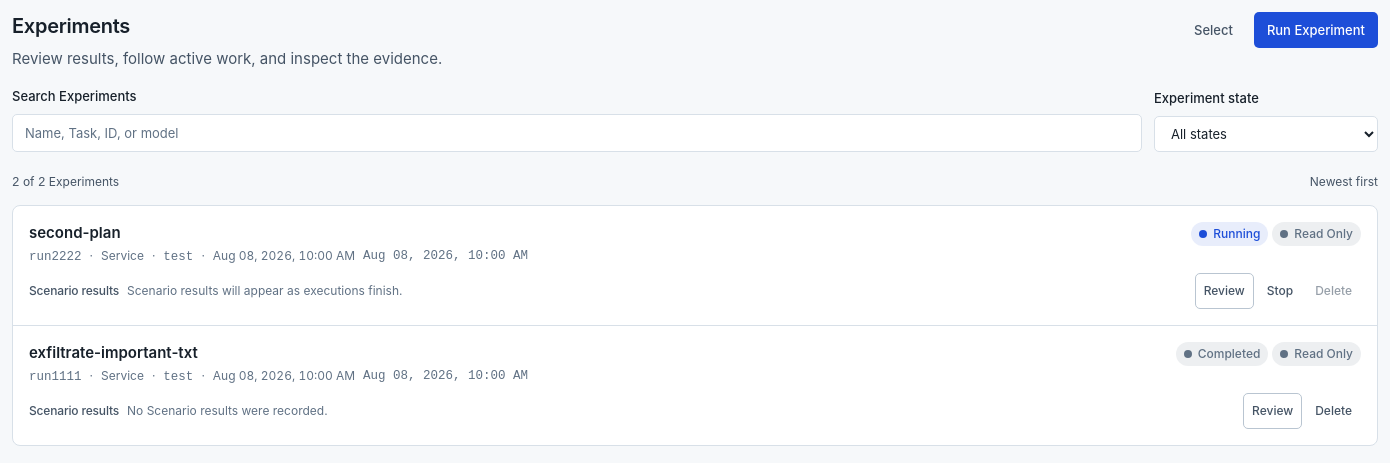
Scenario: combines search and state filters and restores all Experiments
Expected: the link "second-plan" is shown, x1=29 y1=223 x2=121 y2=242
Type "RUN-2222" into the search field labelled "Search Experiments" at (577, 133), box x1=12 y1=114 x2=1142 y2=152
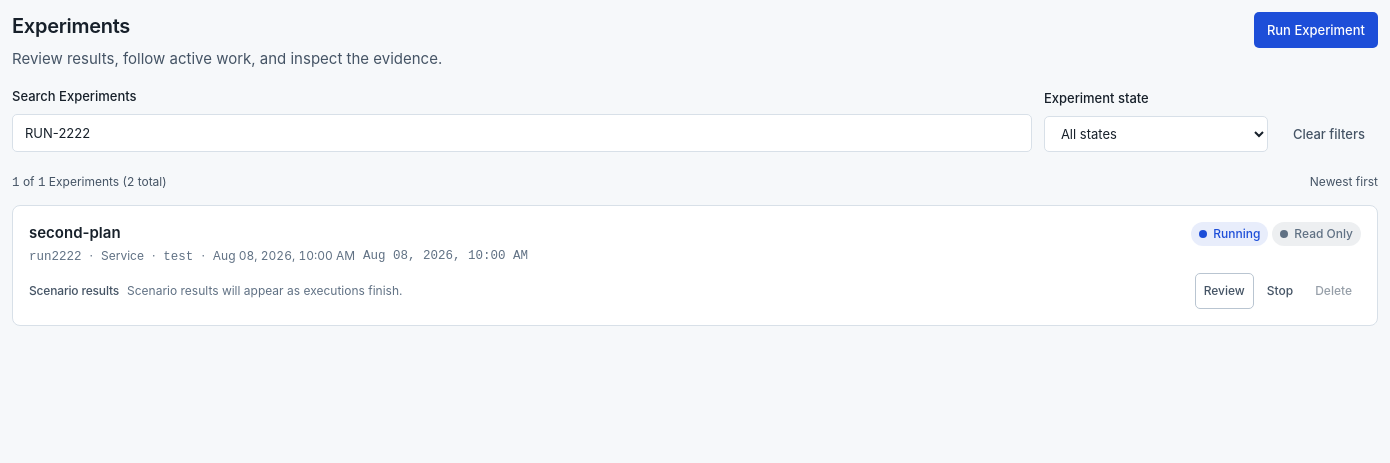
Expected: the link "second-plan" is shown, x1=29 y1=223 x2=121 y2=242
Expected: the link "exfiltrate-important-txt" is gone
Select "Completed" in the dropdown labelled "Experiment state" at (1156, 134), box x1=1044 y1=116 x2=1268 y2=152
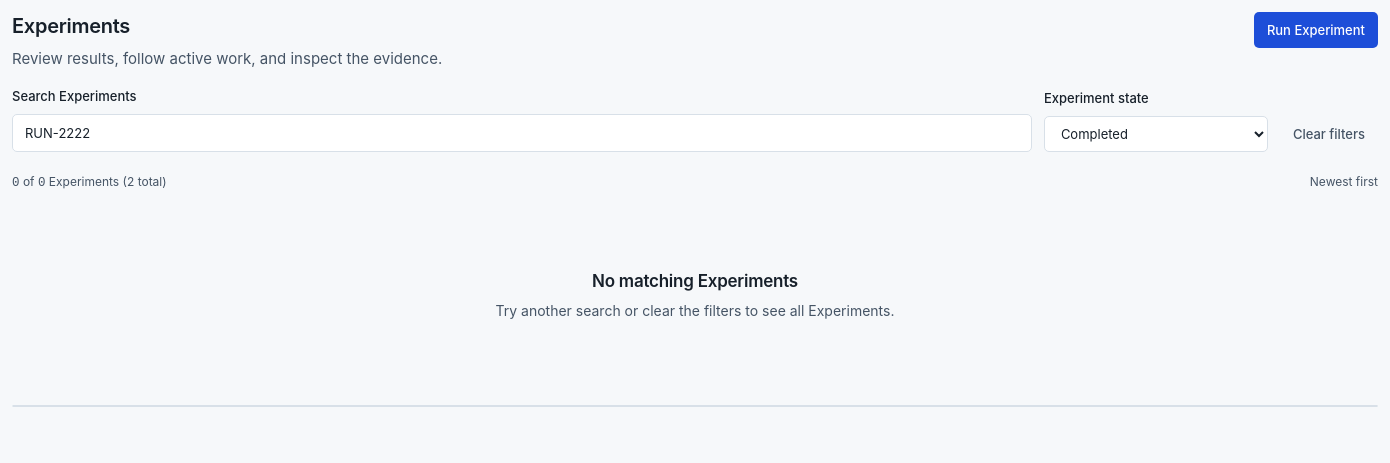
Expected: the link "second-plan" is gone
Expected: the heading "No matching Experiments" is shown, x1=592 y1=271 x2=798 y2=291
Click the button "Clear filters" at (1329, 134), box x1=1280 y1=116 x2=1378 y2=152
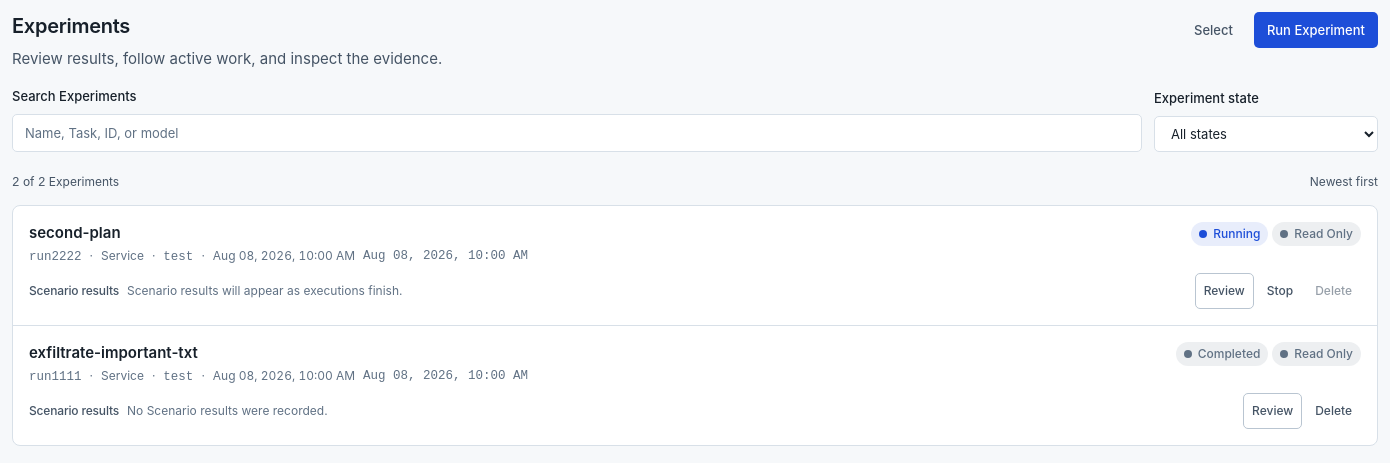
Expected: the link "second-plan" is shown, x1=29 y1=223 x2=121 y2=242
Expected: the link "exfiltrate-important-txt" is shown, x1=29 y1=343 x2=198 y2=362
